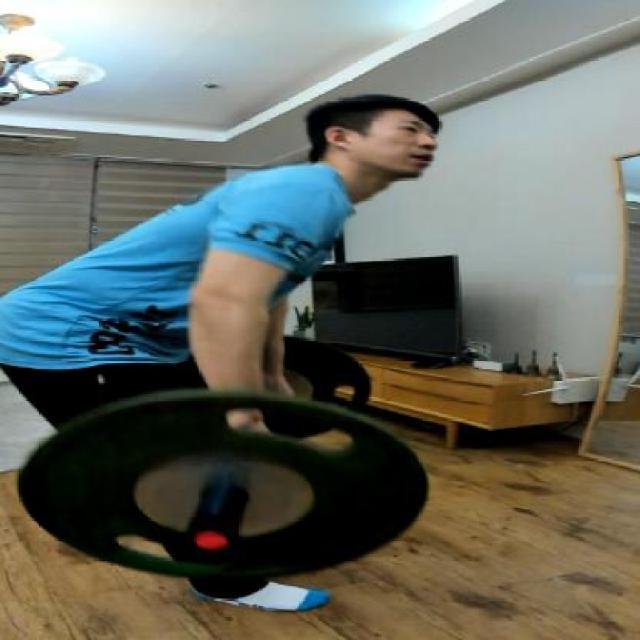Barbell: (174, 522, 246, 558)
